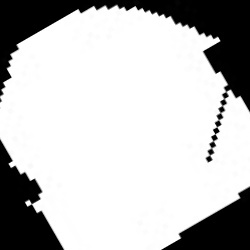spot: (1, 6, 250, 249)
